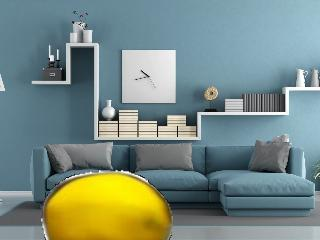lemon: (45, 174, 171, 238)
